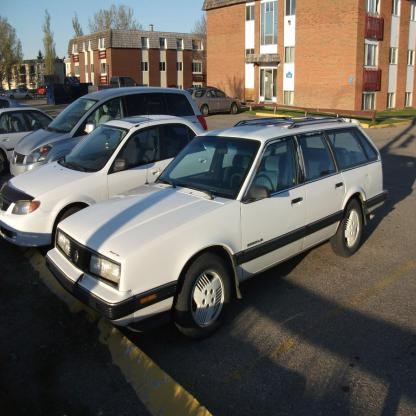Car: (0, 73, 389, 344)
